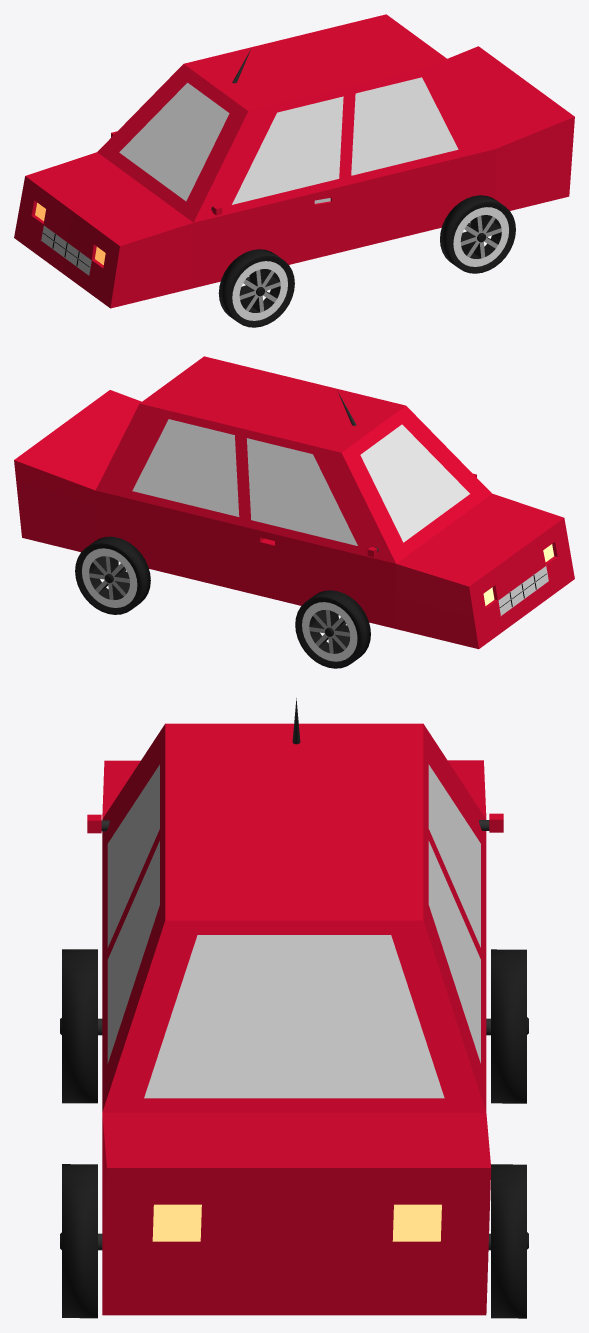
Rendered from car3.fbx.
The picture shows the model from 3 angles, top to bottom: view 1: azimuth 30°, elevation 25°; view 2: azimuth 150°, elevation 25°; view 3: azimuth 270°, elevation 25°; orthographic projection. The views are drawn at different scales.
Visible parts, largest first — view 1: Cube; view 2: Cube; view 3: Cube.
Part boxes in pixels (<box>): Cube: <box>14,14,574,327</box>; Cube: <box>14,356,574,668</box>; Cube: <box>60,698,528,1318</box>.
Size of the model in its own units: 6.24 by 2.88 by 2.73.
